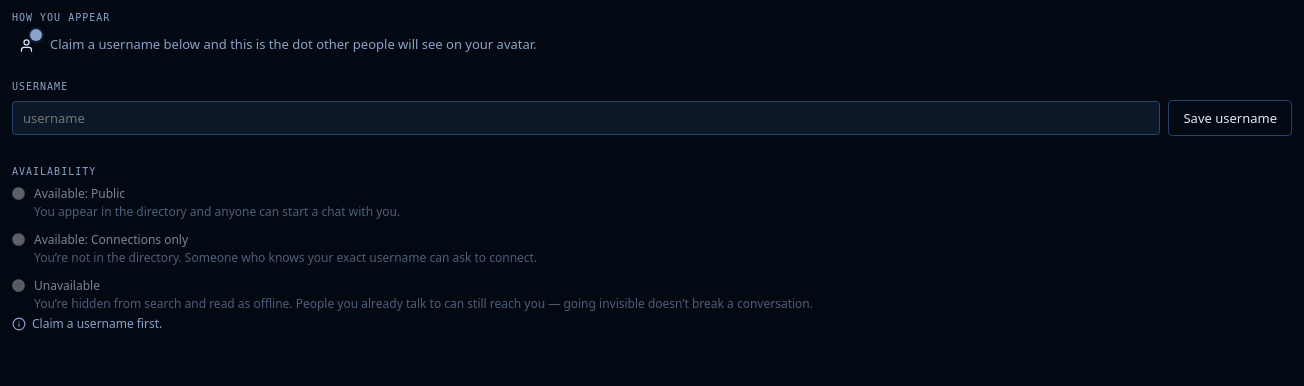
Test: SettingsChatPane — availability is gated on having a username › a REFUSED claim leaves the group closed
Type "ada_l" into the field with test id "chat-username-input".
click(586, 118); type("ada_l")  # box [12,101,1160,135]
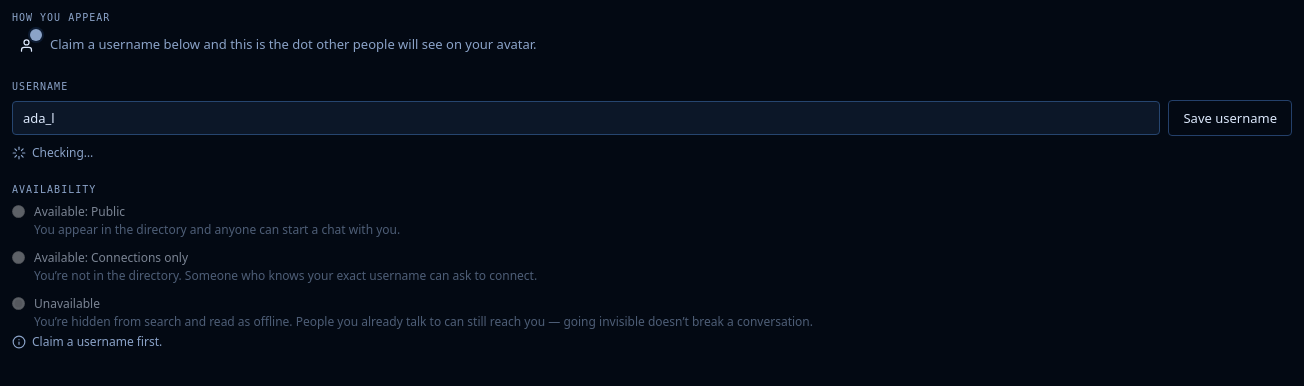
Click the button with test id "chat-username-save".
click(1230, 118)  # box [1168,100,1292,136]
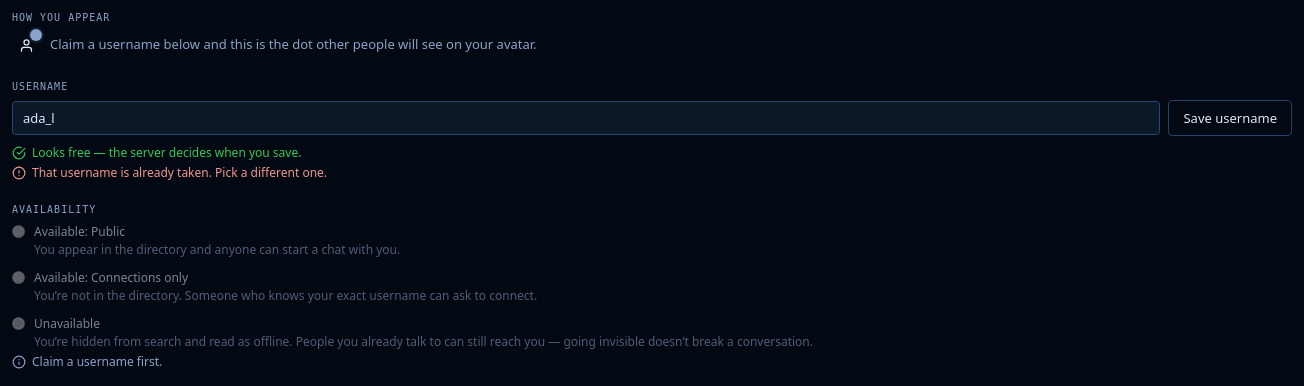
Check: the radio button with test id "chat-visibility-public" is disabled, box [12,225,25,238]
Check: the element with test id "chat-claim-note" is shown, box [12,164,327,181]
